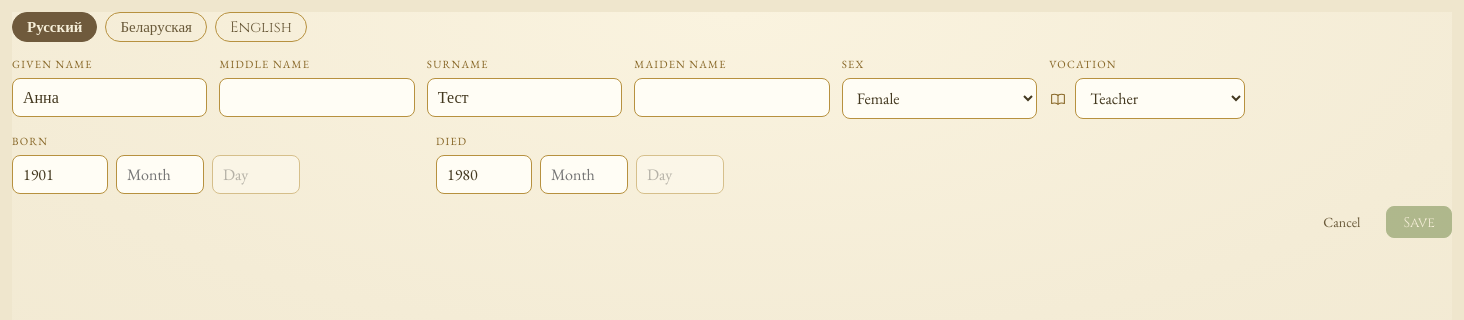
Test case: MemberFieldsEditor › keeps buffers and shows an error when the save fails
The width and height of the screenshot is (1464, 320).
Replace the text in the number field with test id "field-birthYear" with "9999" at {"x": 60, "y": 174}, box [12, 155, 108, 194]
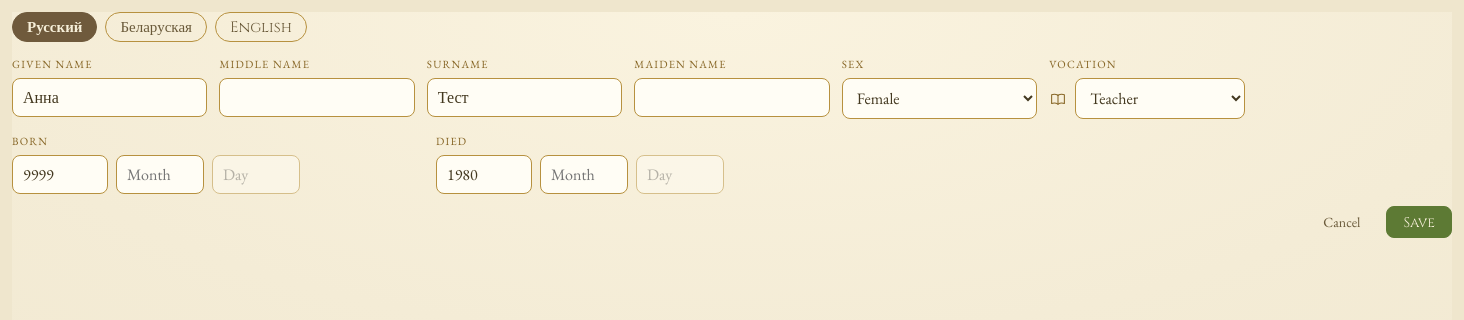
Click the button with test id "fields-save" at {"x": 1419, "y": 222}, box [1386, 206, 1452, 238]
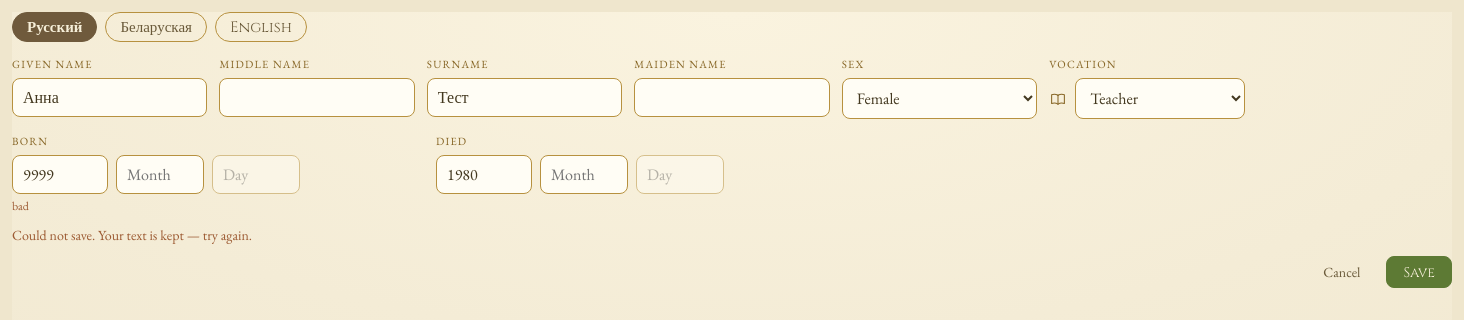
Expected: the text "Could not save. Your text is kept — try again." is shown, [12, 226, 252, 244]
